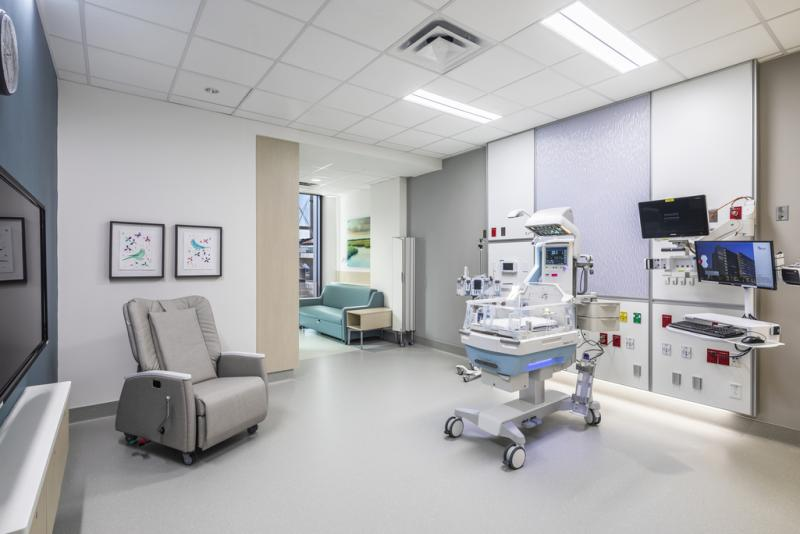TV: (1, 166, 48, 410), (635, 195, 713, 238)
bedside_monitor: (518, 207, 583, 270)
computer: (694, 239, 777, 291)
countertop: (1, 380, 72, 534)
keyboard: (669, 321, 744, 338)
mouse: (741, 336, 764, 343)
panda_baby_warmer: (445, 208, 601, 469)
sofa: (114, 296, 268, 465), (299, 284, 384, 345)
table: (346, 308, 397, 350)
